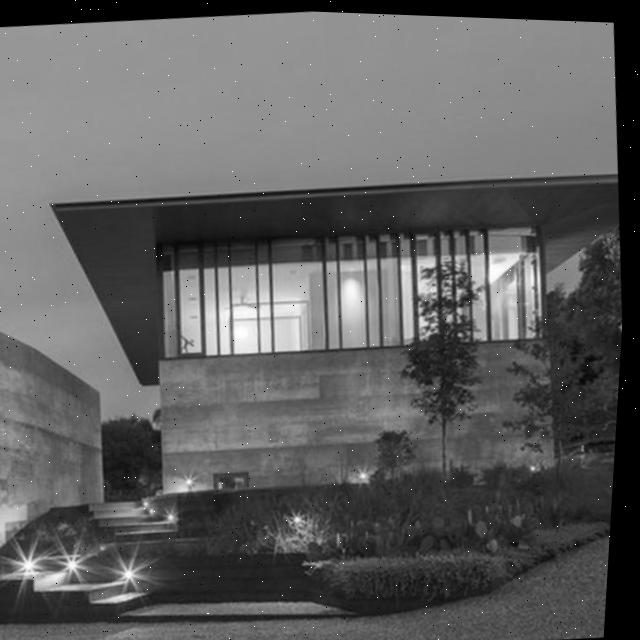building: (27, 150, 631, 569), (0, 302, 118, 546)
